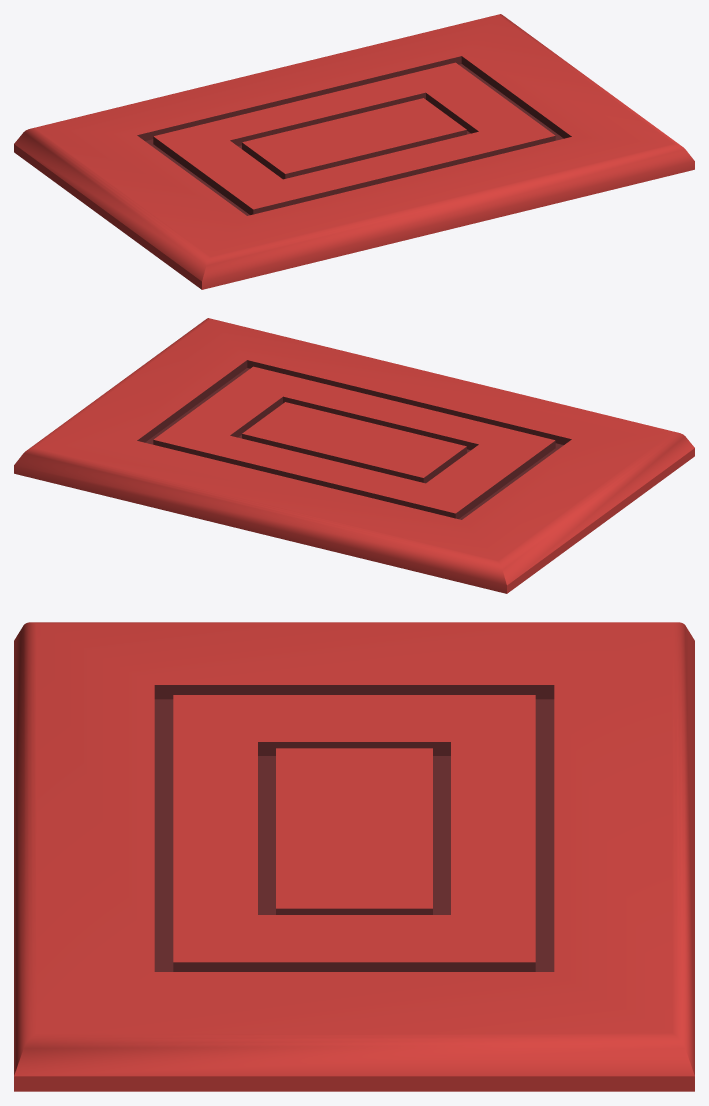
The model's file is 4_doormat.fbx.
3 renders of one model, top to bottom at view 1: azimuth 30°, elevation 25°; view 2: azimuth 150°, elevation 25°; view 3: azimuth 270°, elevation 25°, orthographic. The views are drawn at different scales.
Parts seen in each view (by area): view 1: 4_doormat; view 2: 4_doormat; view 3: 4_doormat.
Part boxes in pixels (left/top/right/bottom): 4_doormat: left=14, top=14, right=694, bottom=289; 4_doormat: left=14, top=318, right=694, bottom=593; 4_doormat: left=14, top=622, right=694, bottom=1091.
Bounding box in the file's own units: 44.08 × 2.13 × 29.12.
